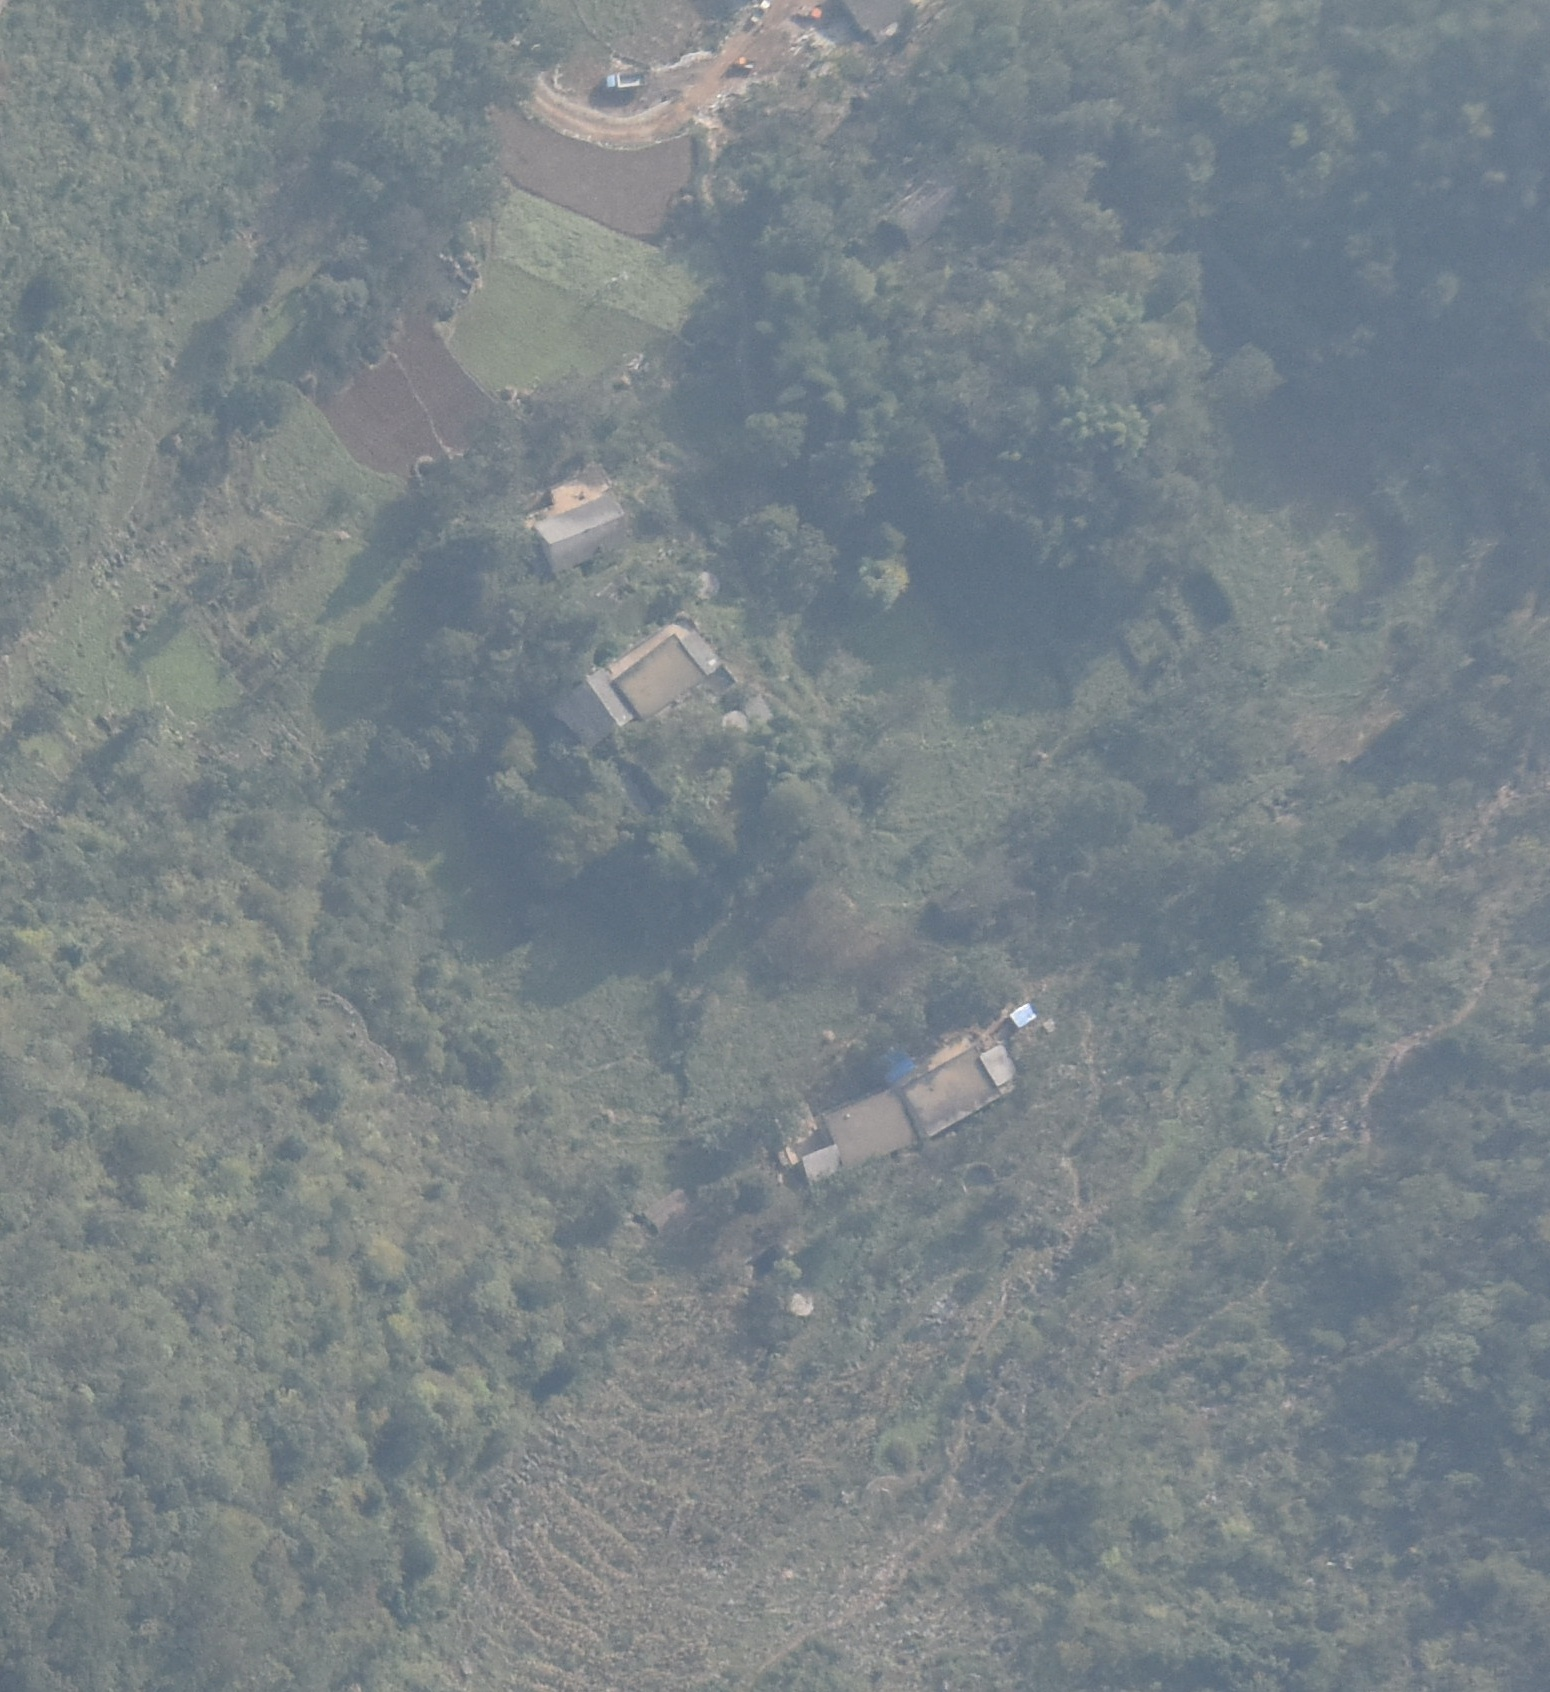building: (560, 629, 732, 744), (900, 1041, 1040, 1144), (785, 1094, 919, 1189), (523, 492, 642, 570), (639, 1184, 697, 1240), (1008, 1002, 1042, 1030)
prefabricated-house: (866, 1041, 921, 1083)
vehicle: (606, 69, 642, 88), (748, 1, 772, 25), (794, 4, 824, 21), (732, 56, 759, 69)
well: (781, 1287, 818, 1319)
